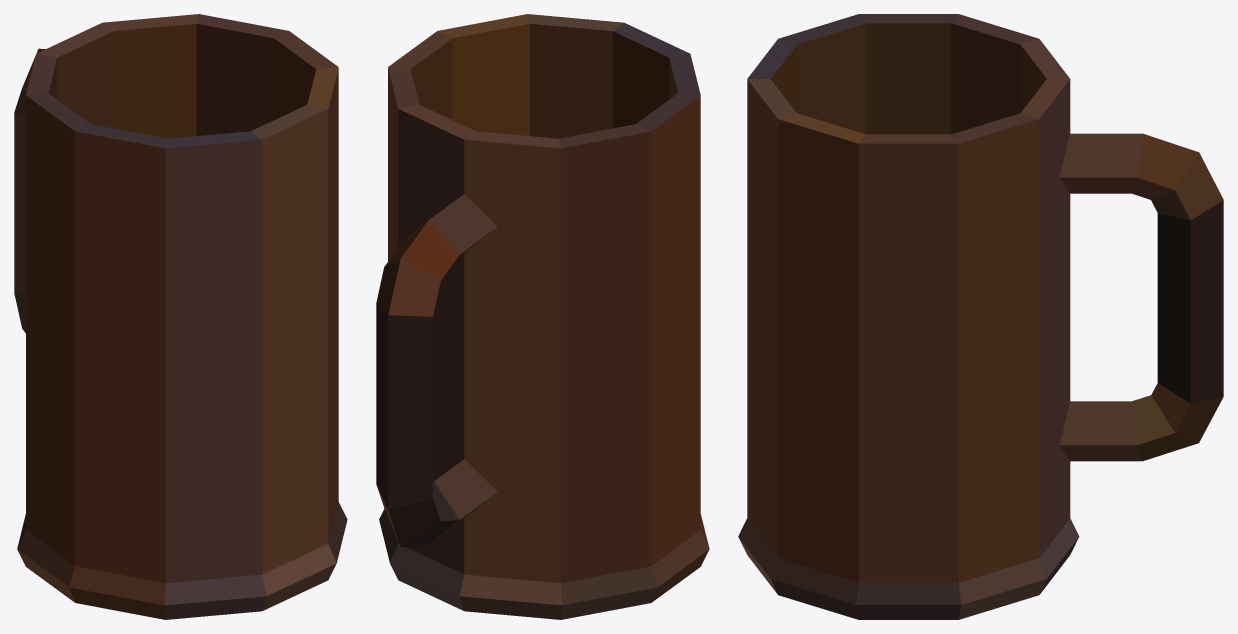
File: Prop_CupA.fbx
The picture shows the model from 3 angles, left to right: view 1: azimuth 30°, elevation 25°; view 2: azimuth 150°, elevation 25°; view 3: azimuth 270°, elevation 25°; orthographic projection.
Visible parts, largest first — view 1: Prop_CupA; view 2: Prop_CupA; view 3: Prop_CupA.
Boxes of the visible parts, box(x1,y1,x2,y2) form: Prop_CupA: box(14, 14, 347, 619); Prop_CupA: box(376, 14, 709, 619); Prop_CupA: box(738, 14, 1223, 619).
Size of the model in its own units: 12.28 by 19.88 by 18.38.
